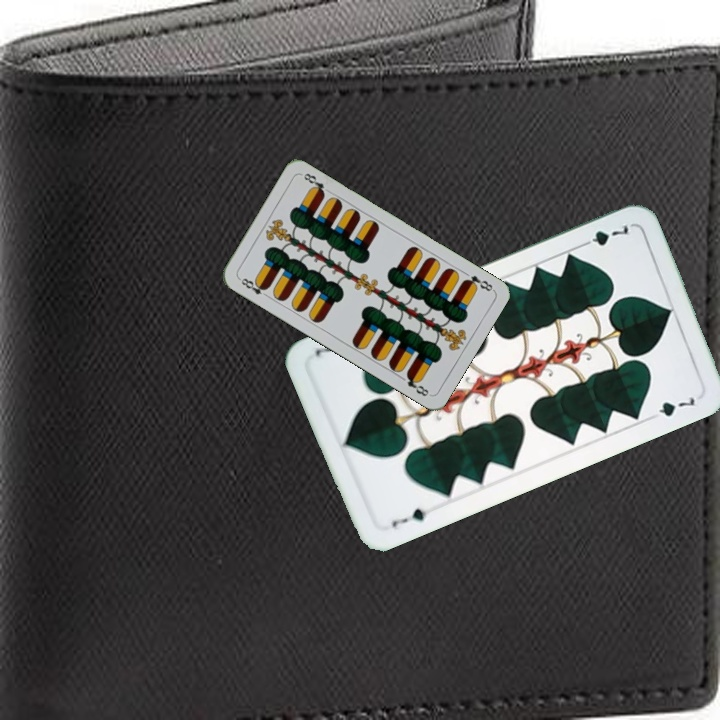E8: (235, 274, 271, 300), (459, 271, 496, 294)
G7: (576, 220, 632, 250), (387, 504, 429, 530)
